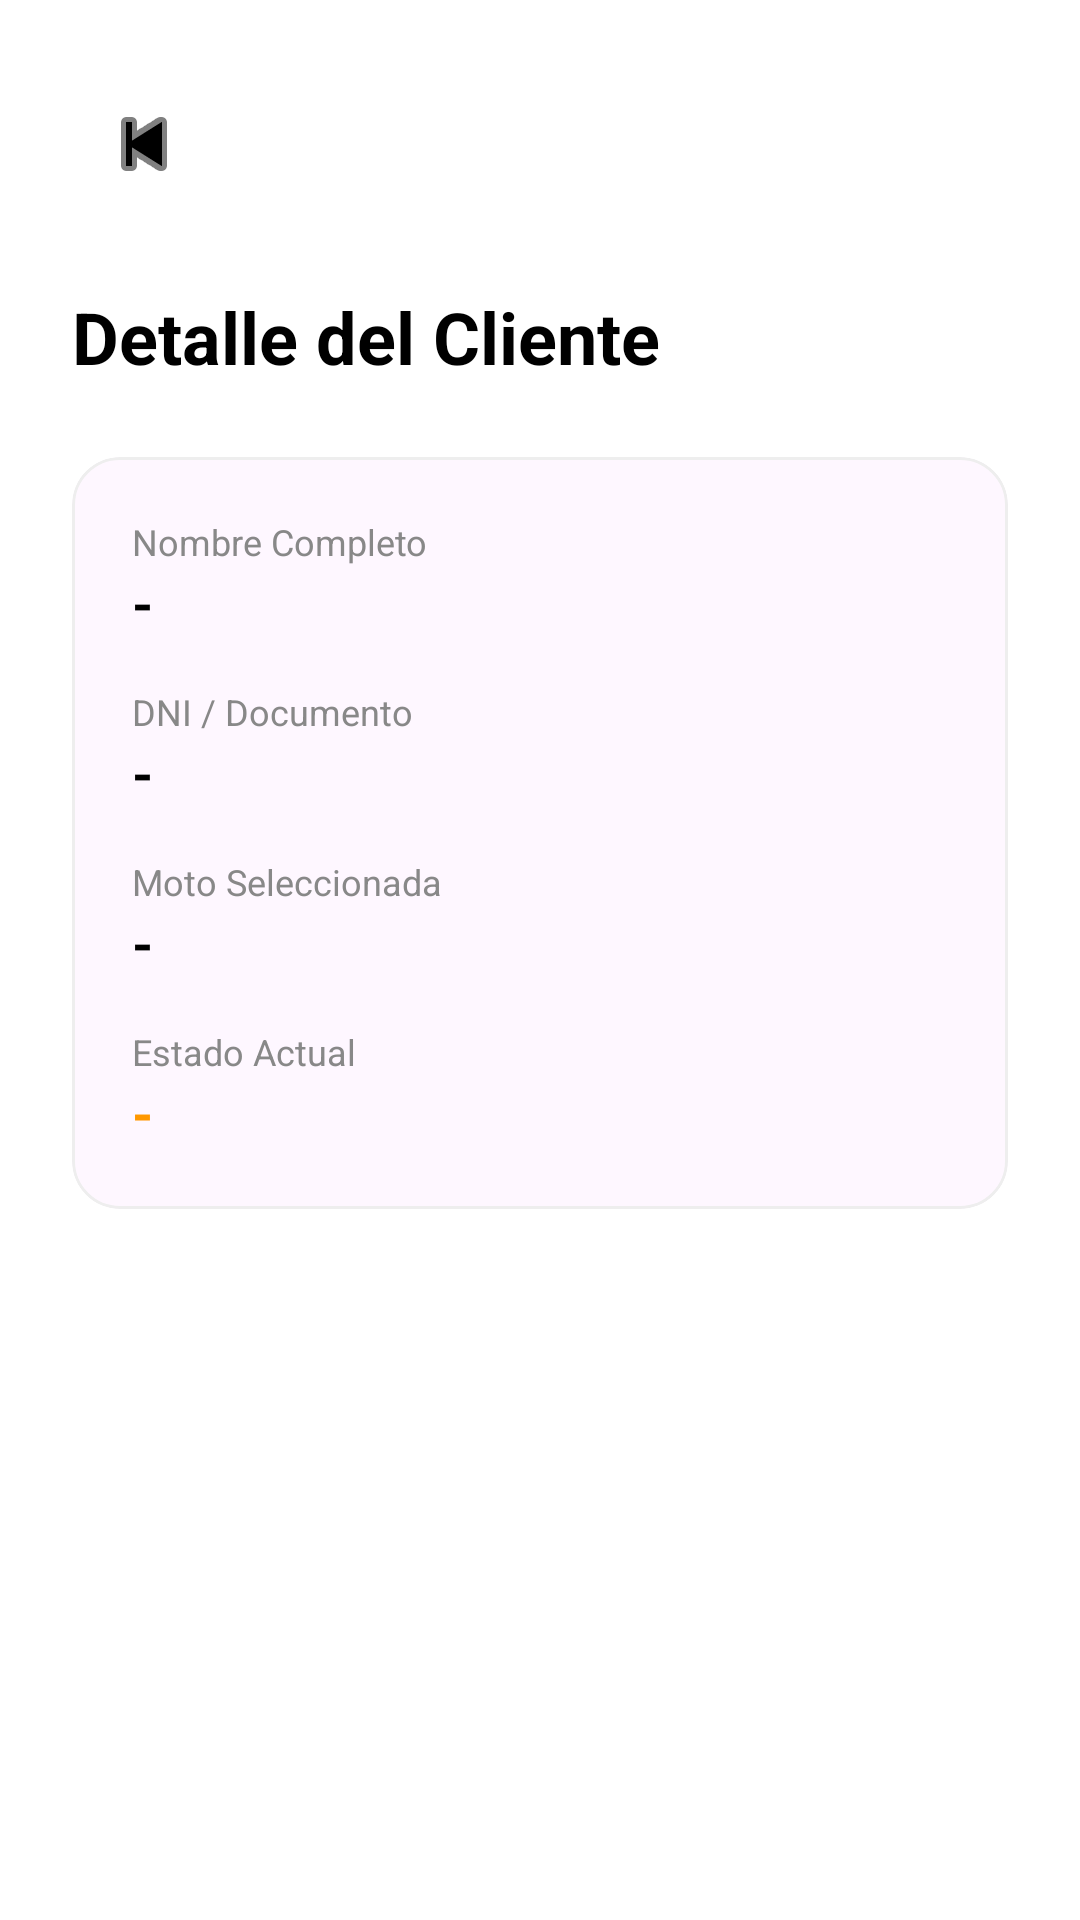

Screen size 1080px×1920px. Icon name, then its box in pixels as [x1=x1, y1=y1, x2=x2, y2=y2]:
previous: [x1=121, y1=117, x2=167, y2=171]
